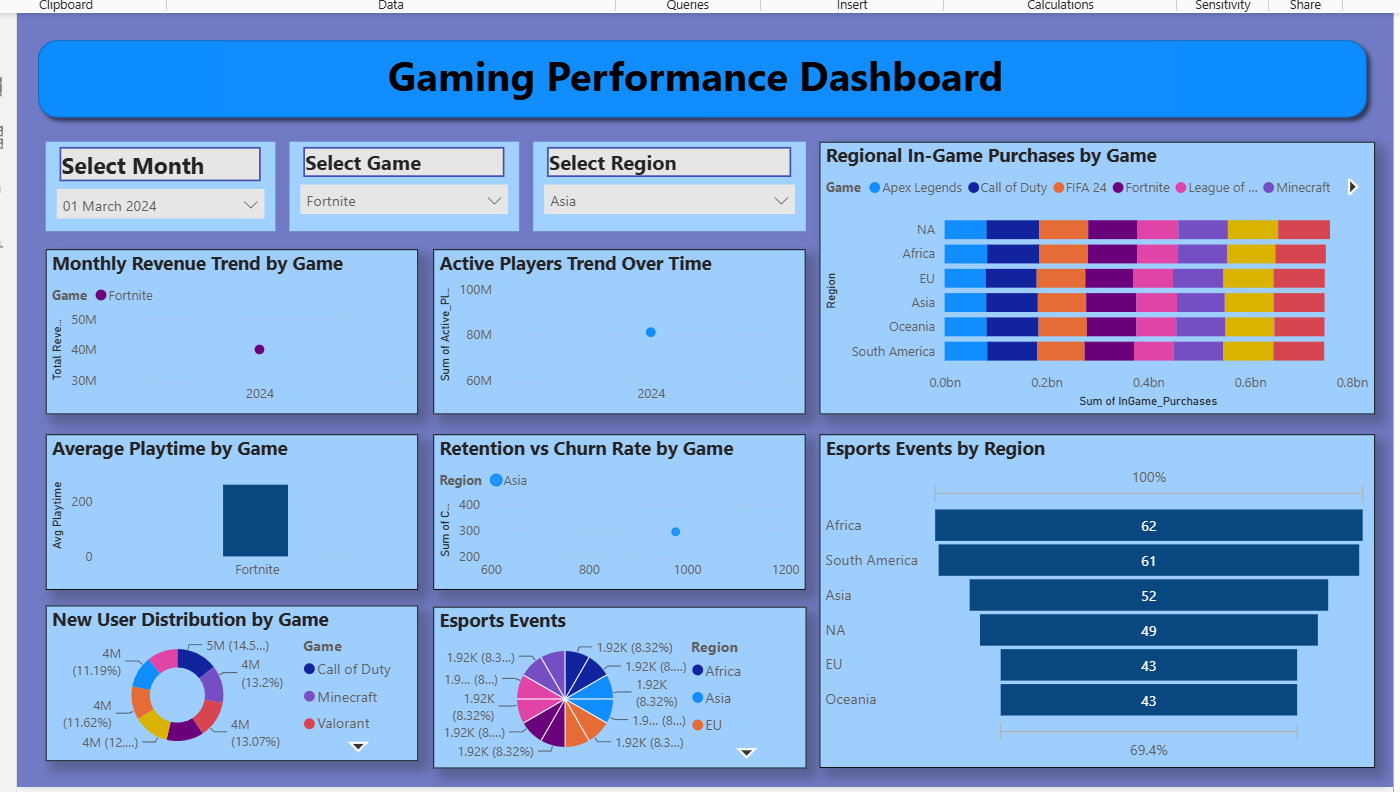

The dashboard page shown, as its layout file describes it:
{"tool":"powerbi","page":{"name":"Page 1","canvas":[1280,720],"ordinal":0},"visuals":[{"type":"shape","box":[10,16,1254,90],"z":0},{"type":"textbox","box":[193.3,28.3,886.7,63.3],"z":1},{"type":"slicer","fields":{"Values":["gaming_dataset_rich.Month"]},"box":[26.7,120,213.3,83.3],"z":2},{"type":"slicer","fields":{"Values":["gaming_dataset_rich.Game"]},"box":[253.3,120,213.3,83.3],"z":3},{"type":"slicer","fields":{"Values":["gaming_dataset_rich.Region"]},"box":[480,120,253.3,83.3],"z":4},{"type":"lineChart","title":"Monthly Revenue Trend by Game","fields":{"Category":["gaming_dataset_rich.Month.Variation.Date Hierarchy.Year","gaming_dataset_rich.Month.Variation.Date Hierarchy.Quarter","gaming_dataset_rich.Month.Variation.Date Hierarchy.Month","gaming_dataset_rich.Month.Variation.Date Hierarchy.Day"],"Y":["gaming_dataset_rich.Total Revenue"],"Series":["gaming_dataset_rich.Game"]},"box":[26.7,220,346.7,153.3],"z":5},{"type":"areaChart","title":"Active Players Trend Over Time","fields":{"Category":["gaming_dataset_rich.Month.Variation.Date Hierarchy.Year","gaming_dataset_rich.Month.Variation.Date Hierarchy.Quarter","gaming_dataset_rich.Month.Variation.Date Hierarchy.Month","gaming_dataset_rich.Month.Variation.Date Hierarchy.Day"],"Y":["Sum(gaming_dataset_rich.Active_Players)"]},"box":[386.7,220,346.7,153.3],"z":6},{"type":"clusteredColumnChart","title":"Average Playtime by Game","fields":{"Category":["gaming_dataset_rich.Game"],"Y":["gaming_dataset_rich.Avg Playtime"]},"box":[26.7,391.7,346.7,145],"z":7},{"type":"barChart","title":"Regional In-Game Purchases by Game","fields":{"Category":["gaming_dataset_rich.Region"],"Y":["Sum(gaming_dataset_rich.InGame_Purchases)"],"Series":["gaming_dataset_rich.Game"]},"box":[746.7,120,516.7,253.3],"z":8},{"type":"scatterChart","title":"Retention vs Churn Rate by Game","fields":{"X":["Sum(gaming_dataset_rich.Retention_Percent)"],"Y":["Sum(gaming_dataset_rich.Churn_Rate_Percent)"],"Size":["Sum(gaming_dataset_rich.Active_Players)"],"Series":["gaming_dataset_rich.Region"]},"box":[386.7,391.7,346.7,145],"z":9},{"type":"donutChart","title":"New User Distribution by Game","fields":{"Y":["Sum(gaming_dataset_rich.New_Users)"],"Category":["gaming_dataset_rich.Game"]},"box":[26.7,551.7,346.7,145],"z":10},{"type":"pieChart","title":"Esports Events","fields":{"Category":["gaming_dataset_rich.Region"],"Y":["CountNonNull(gaming_dataset_rich.New_Users)","CountNonNull(gaming_dataset_rich.Revenue_USD)","Count(gaming_dataset_rich.Esports_Events)"]},"box":[387,552,347,150],"z":12},{"type":"funnel","title":"Esports Events by Region","fields":{"Category":["gaming_dataset_rich.Region"],"Y":["Sum(gaming_dataset_rich.Esports_Events)"]},"box":[746.7,391.7,516.7,310],"z":13}]}

Visuals, with their boxes in screenshot pixels (x1, y1, x2, y2):
shape: 22:43:1374:140
textbox: 219:56:1176:124
slicer - gaming_dataset_rich.Month: 40:155:270:245
slicer - gaming_dataset_rich.Game: 284:155:514:245
slicer - gaming_dataset_rich.Region: 529:155:802:245
"Monthly Revenue Trend by Game" lineChart: 40:263:414:428
"Active Players Trend Over Time" areaChart: 428:263:802:428
"Average Playtime by Game" clusteredColumnChart: 40:448:414:604
"Regional In-Game Purchases by Game" barChart: 816:155:1374:428
"Retention vs Churn Rate by Game" scatterChart: 428:448:802:604
"New User Distribution by Game" donutChart: 40:621:414:777
"Esports Events" pieChart: 428:621:803:783
"Esports Events by Region" funnel: 816:448:1374:782
